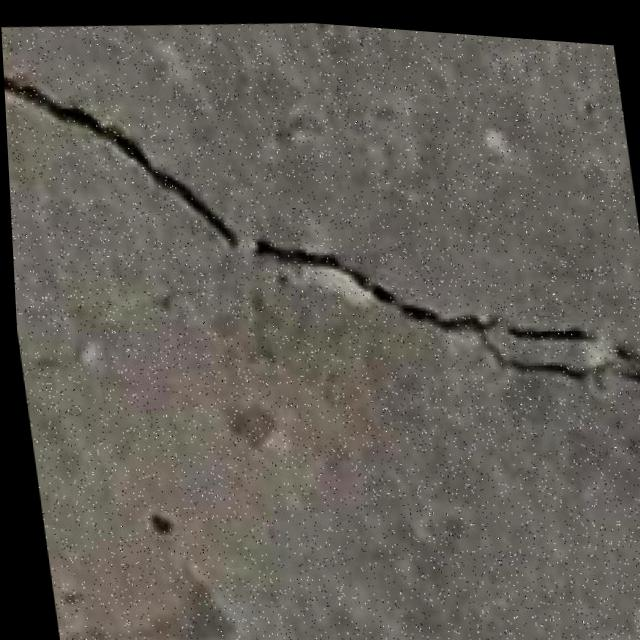Crack: (0, 4, 640, 451)
